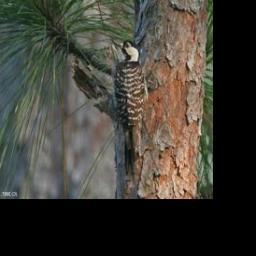Woodpecker: (109, 39, 159, 184)
